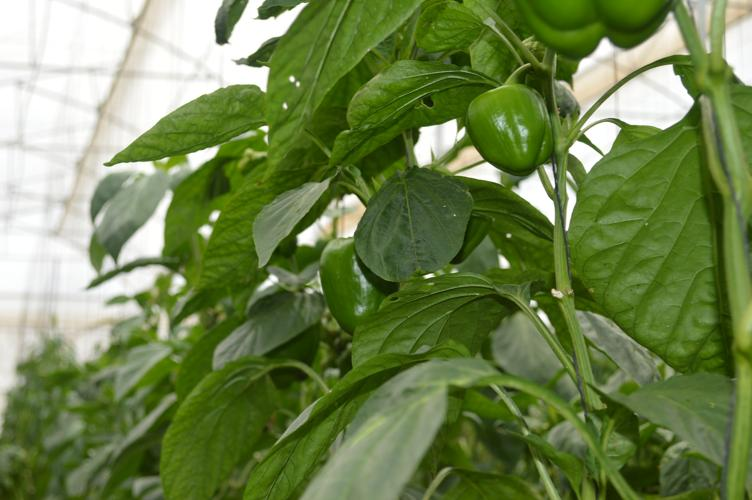BellPepper: (460, 87, 551, 172), (316, 238, 391, 330)
